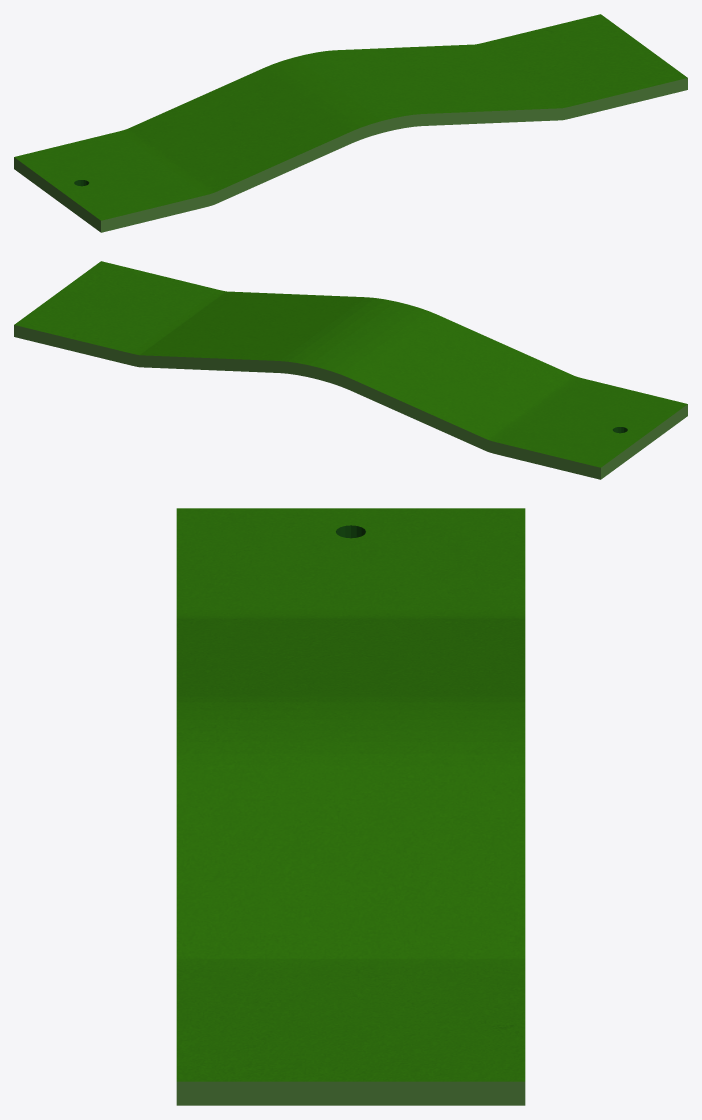
Rendered from GolfCourse.fbx.
3 views of the same model, one above another, from view 1: azimuth 30°, elevation 25°; view 2: azimuth 150°, elevation 25°; view 3: azimuth 270°, elevation 25° (orthographic). The views are drawn at different scales.
Parts seen in each view (by area): view 1: Course; view 2: Course; view 3: Course.
Part boxes in pixels (left/top/right/bottom): Course: left=14, top=14, right=687, bottom=232; Course: left=14, top=261, right=687, bottom=479; Course: left=176, top=508, right=525, bottom=1105.
Size of the model in its own units: 6406 by 459 by 1647.
Materials: 4 (1 with a texture image).
